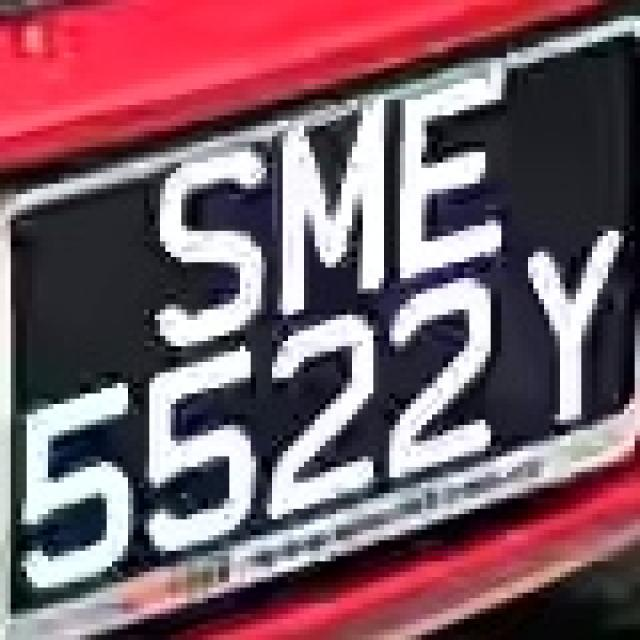2: (363, 262, 512, 504), (261, 304, 384, 514)
5: (10, 372, 138, 614), (144, 336, 245, 577)
E: (384, 42, 496, 283)
M: (282, 94, 394, 315)
S: (149, 136, 272, 352)
Y: (496, 220, 640, 441)
